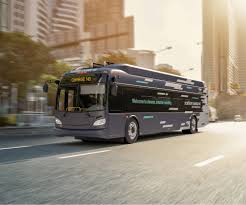bus: (42, 60, 209, 145)
